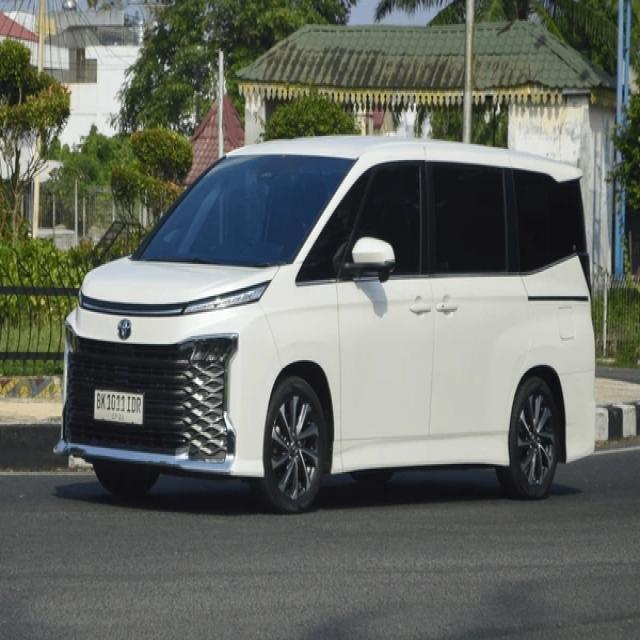toyota: (110, 313, 139, 347)
